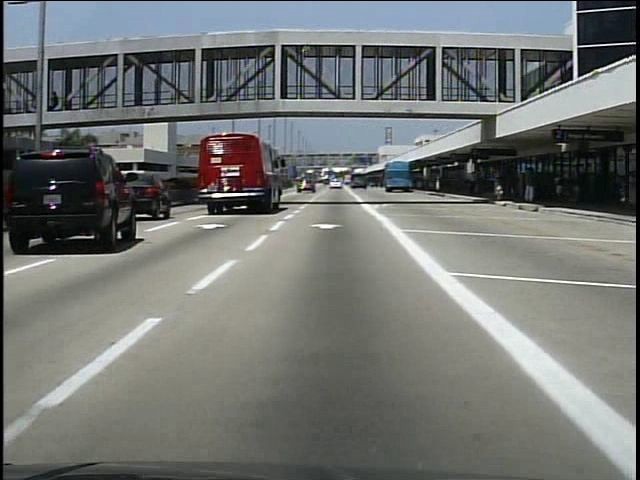person: (550, 167, 568, 204)
